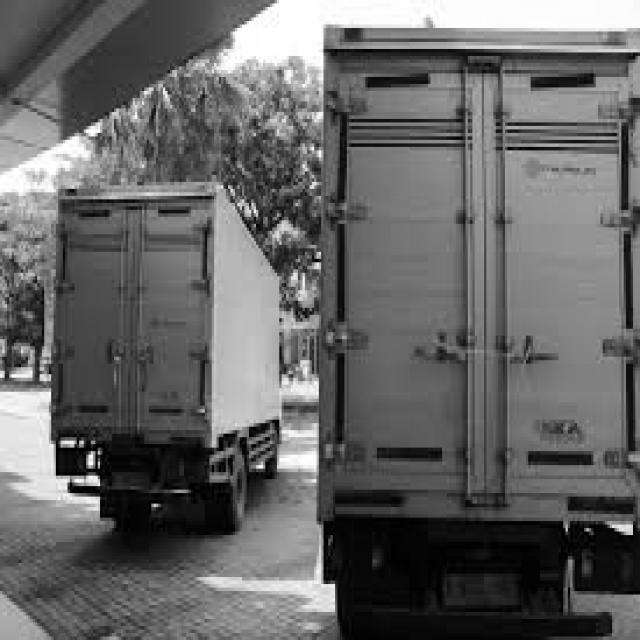truck: (313, 4, 640, 639), (41, 170, 289, 543)
